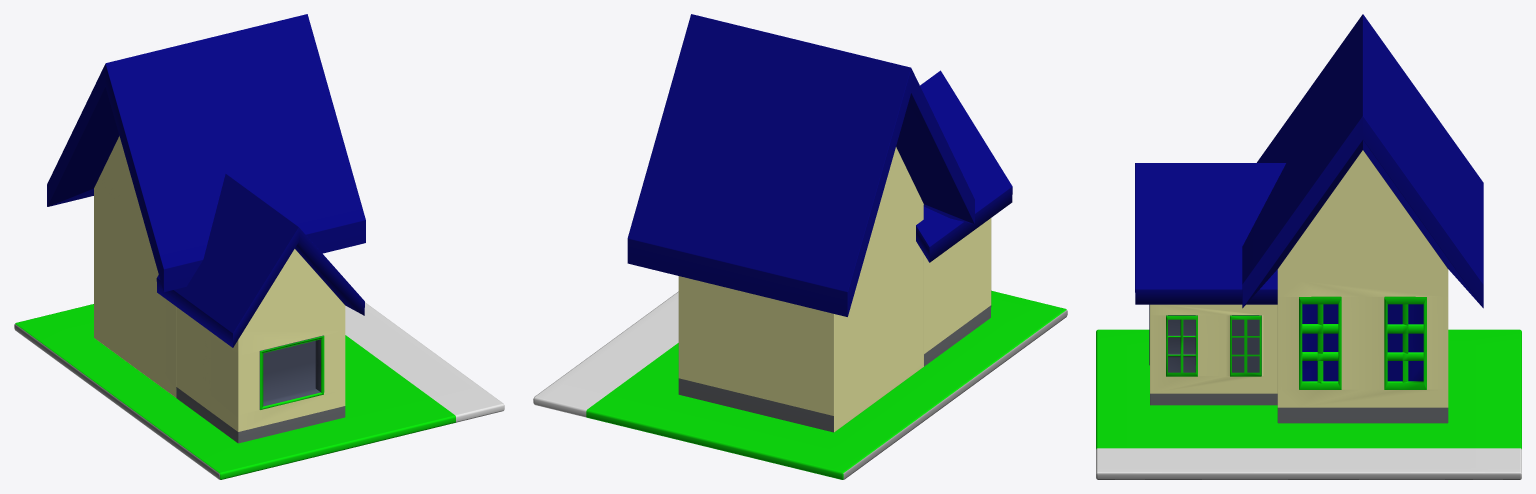
The model's file is Housenams.fbx.
The picture shows the model from 3 angles, left to right: view 1: azimuth 30°, elevation 25°; view 2: azimuth 150°, elevation 25°; view 3: azimuth 270°, elevation 25°; orthographic projection. The views are drawn at different scales.
Visible parts, largest first — view 1: nhalon, nhanho, san2; view 2: nhalon, san2, nhanho; view 3: nhalon, san2, nhanho.
Boxes of the visible parts, <box> form: nhalon: <box>47,14,365,397</box>; nhanho: <box>156,174,364,443</box>; san2: <box>14,302,504,479</box>; nhalon: <box>627,14,974,432</box>; san2: <box>533,290,1067,479</box>; nhanho: <box>916,70,1012,366</box>; nhalon: <box>1242,14,1483,423</box>; san2: <box>1096,329,1521,479</box>; nhanho: <box>1135,163,1285,405</box>.
Bounding box in the file's own units: 8 × 8.56 × 10.
